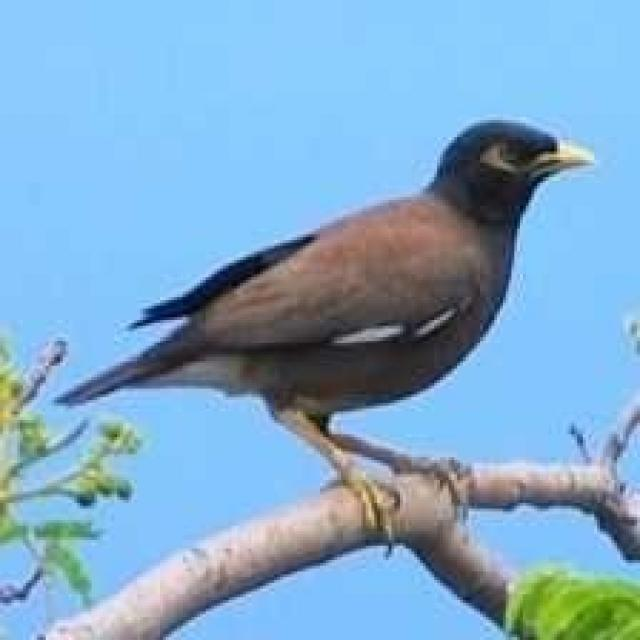bird: (45, 104, 601, 562)
